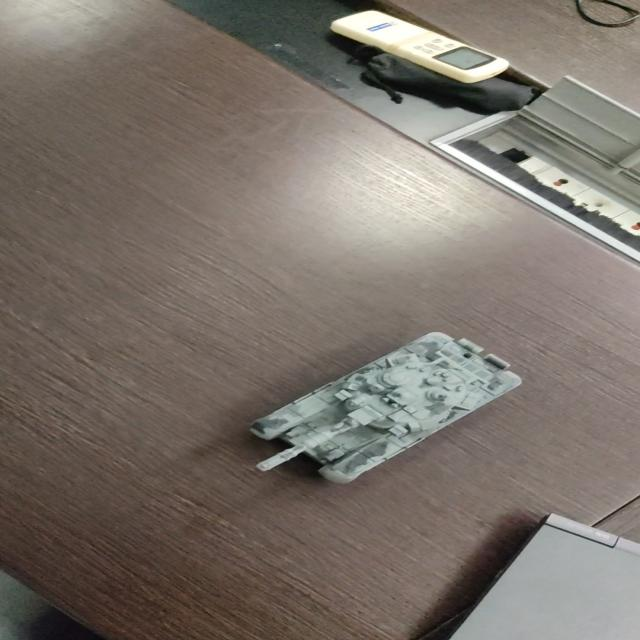tank: (248, 331, 524, 486)
